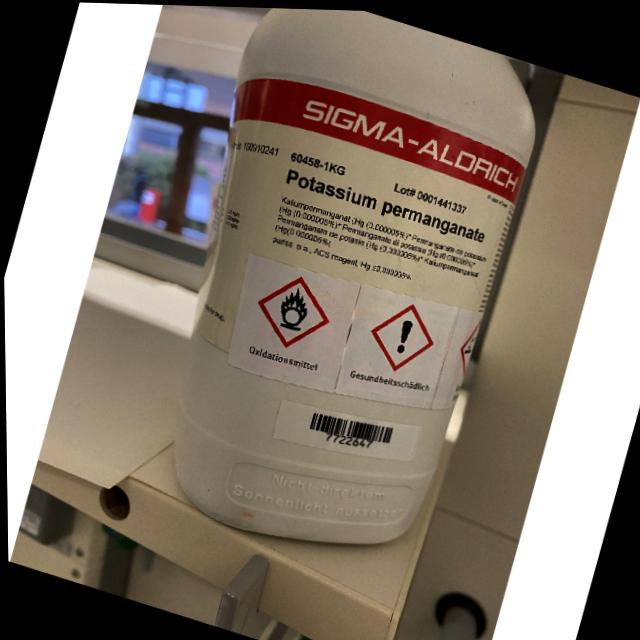health-ozone layer hazard: (393, 317, 412, 352)
oxidising: (273, 282, 311, 331)
